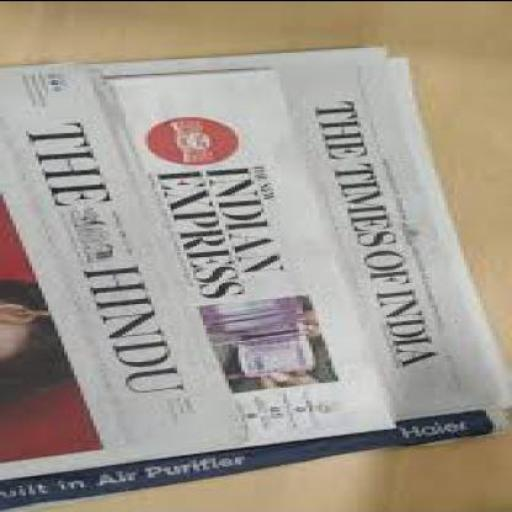paper: (2, 52, 511, 510), (3, 42, 499, 428), (3, 66, 399, 445), (3, 60, 252, 477)
